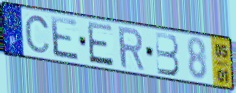8: (185, 36, 208, 83)
B: (154, 30, 181, 78)
C: (23, 14, 52, 54)
E: (49, 14, 82, 63), (86, 20, 115, 68)
R: (116, 25, 146, 73)
